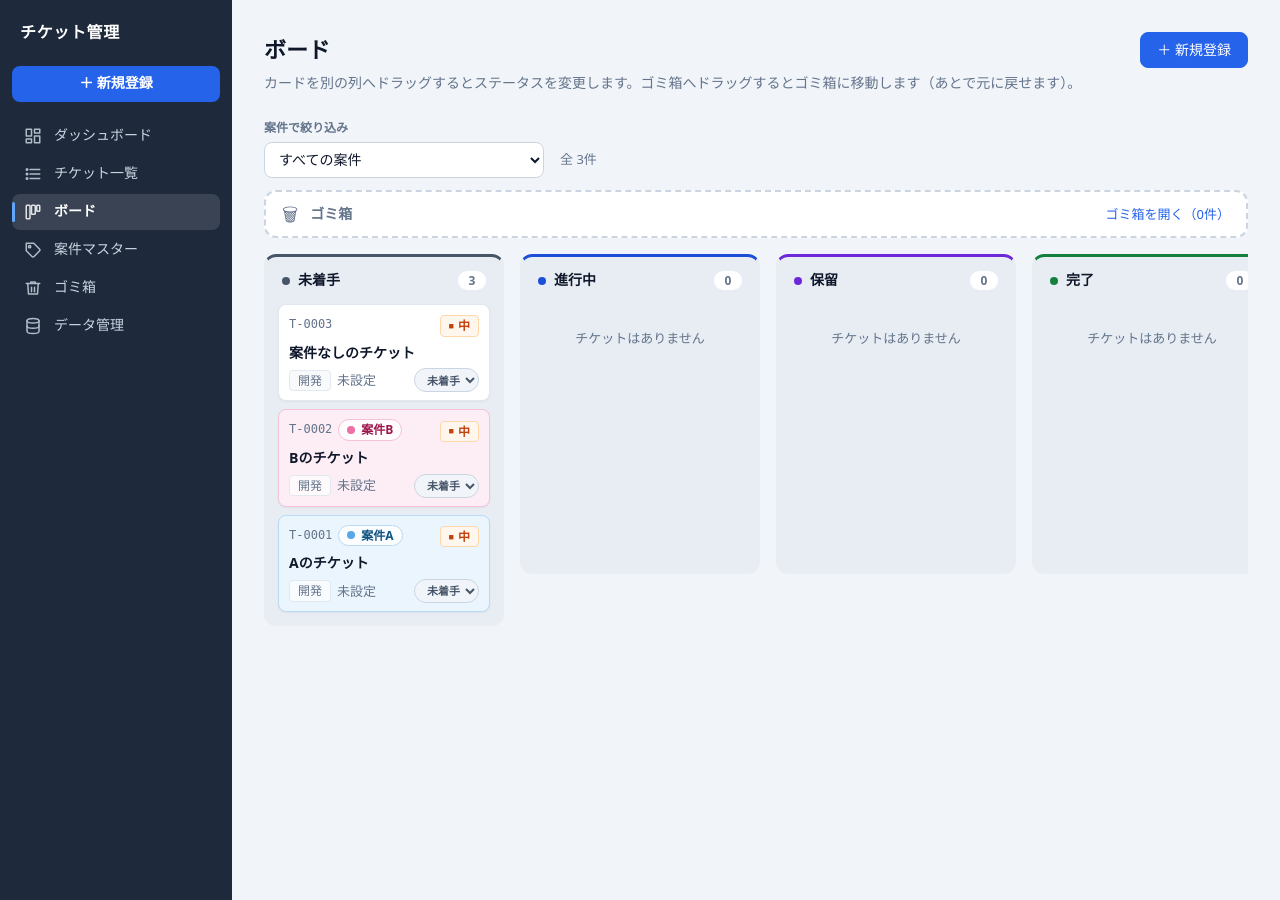
Test: チケットへの案件の設定と絞り込み › ボードで案件による絞り込みができ、詳細から戻っても絞り込みが維持される
Step 1. Select "案件B" in the dropdown labelled "案件で絞り込み" → (404, 160), box [264,142,544,178]
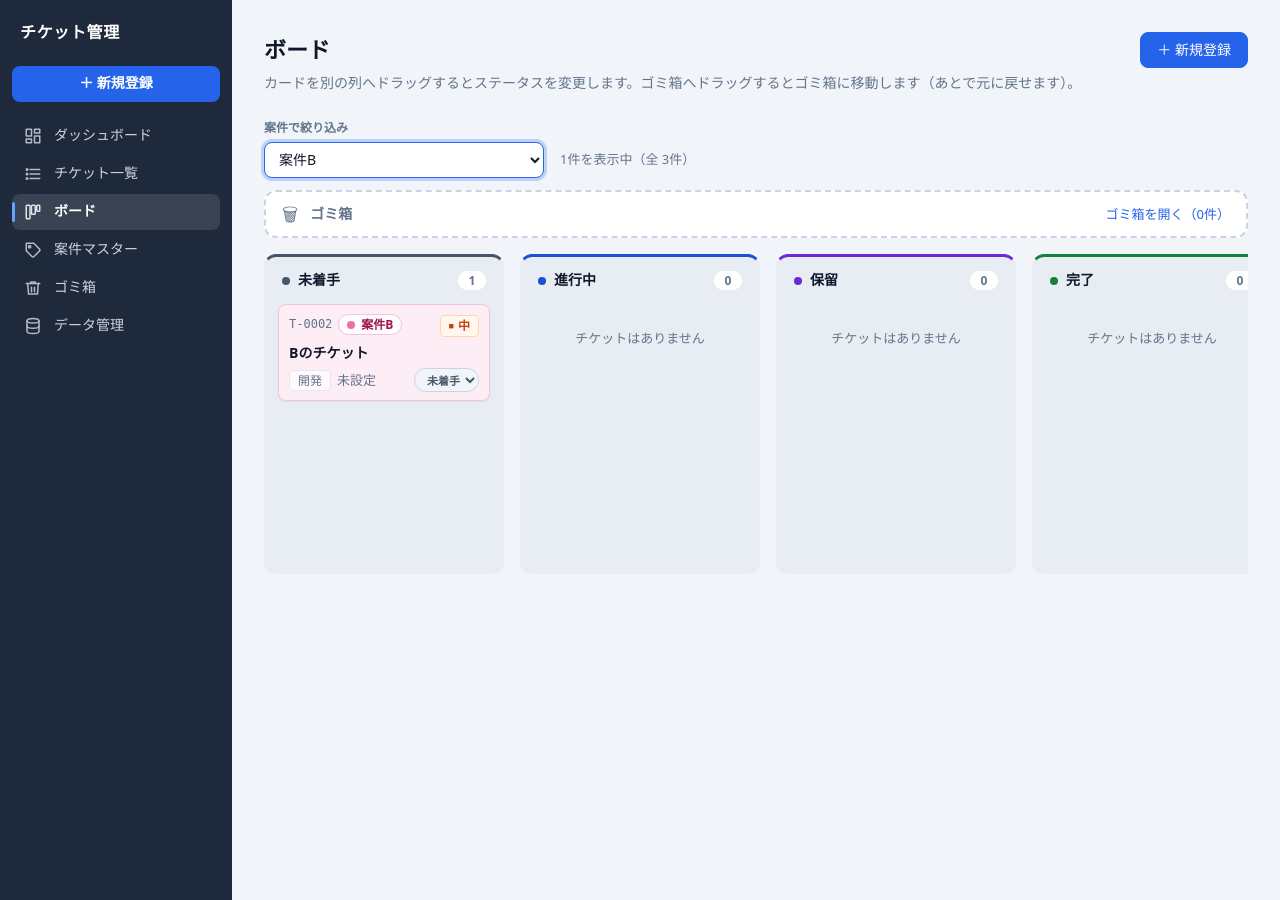
expect the text "1件を表示中（全 3件）" is shown: met, box [560,149,695,178]
expect the link "Aのチケット" is gone: met
Step 2. Click the link "Bのチケット" → (329, 352), box [289,343,368,362]
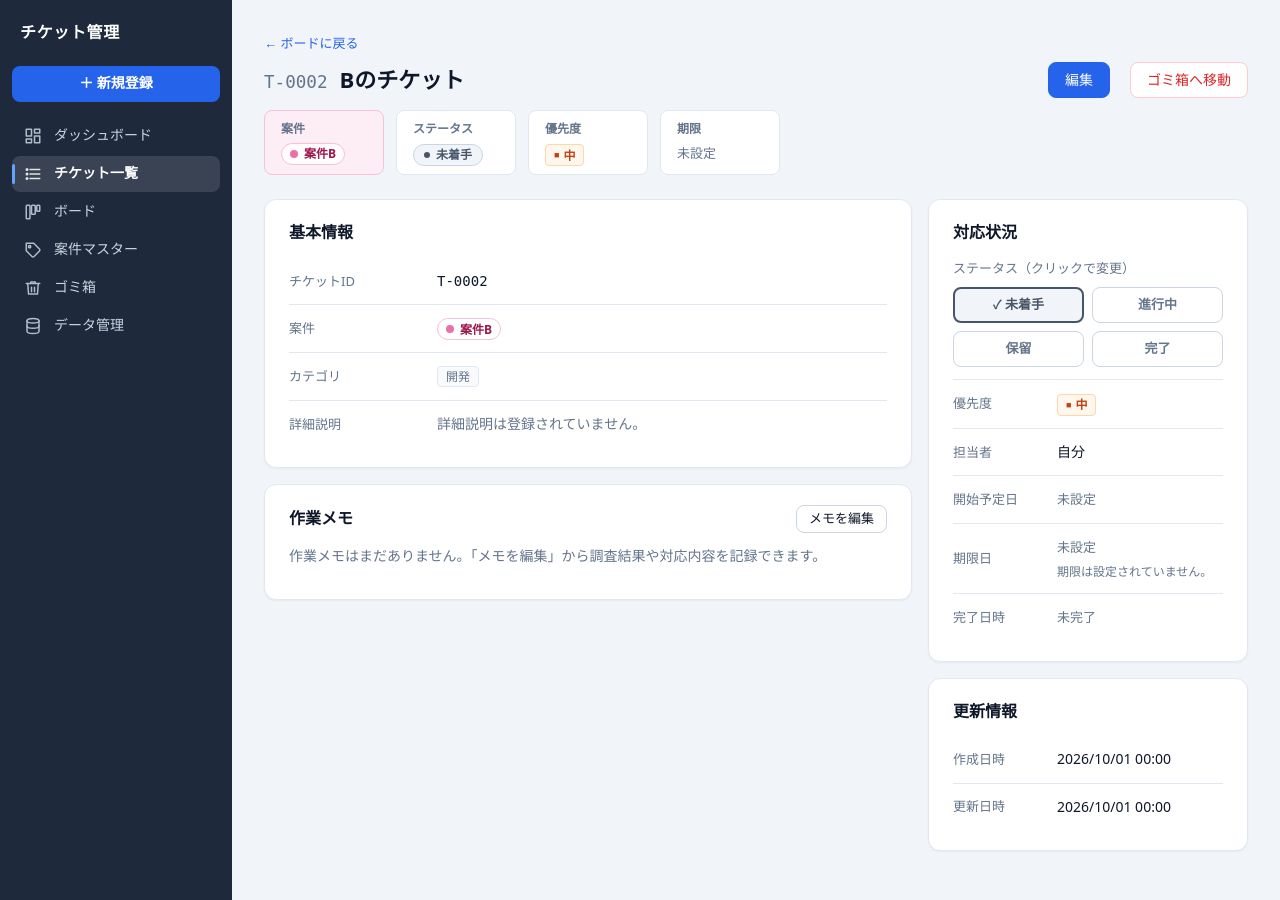
Step 3. Click the link "← ボードに戻る" → (311, 43), box [264,33,358,54]
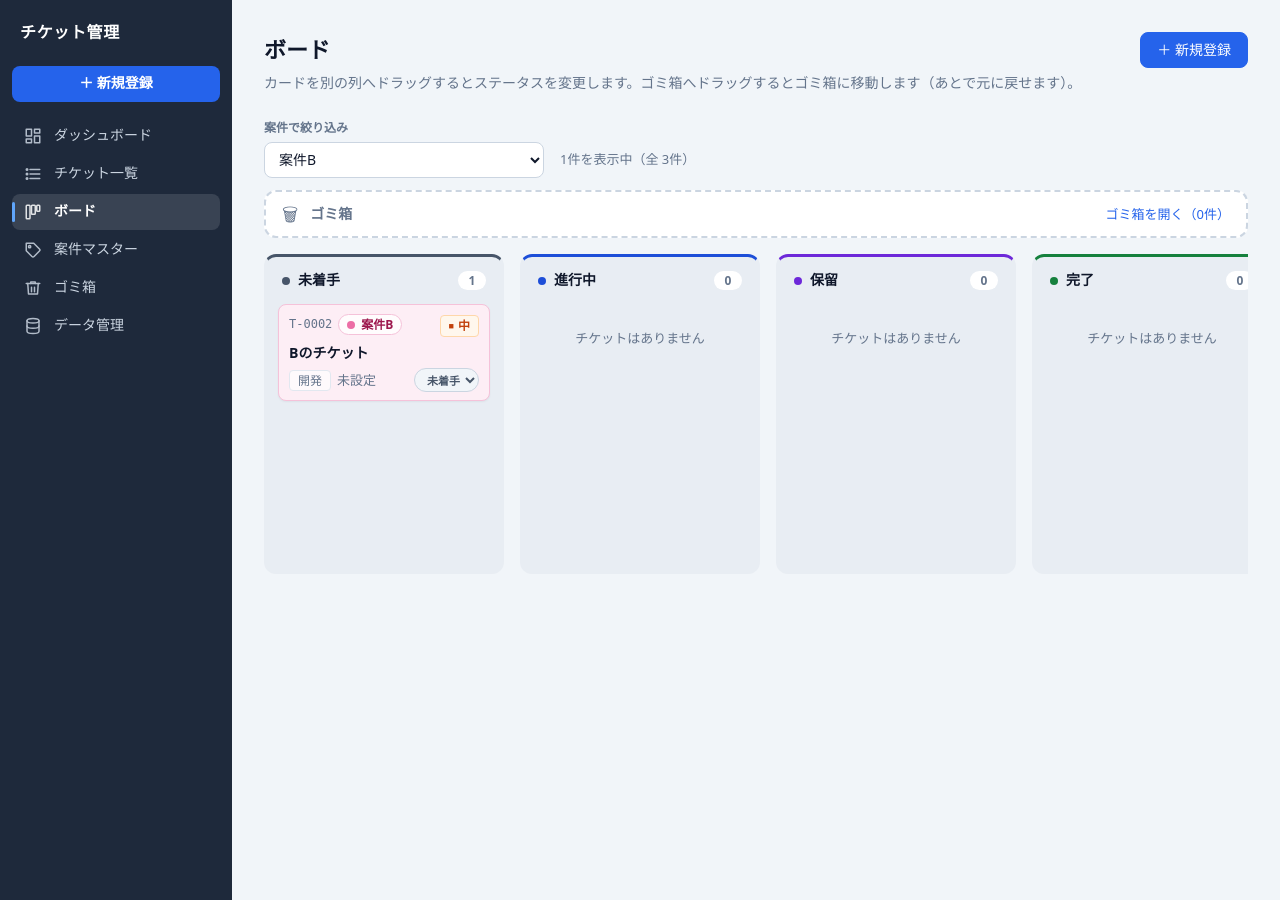
expect the link "Aのチケット" is not shown: met
expect the dropdown labelled "案件で絞り込み" shows "案件B": met, box [264,142,544,178]
